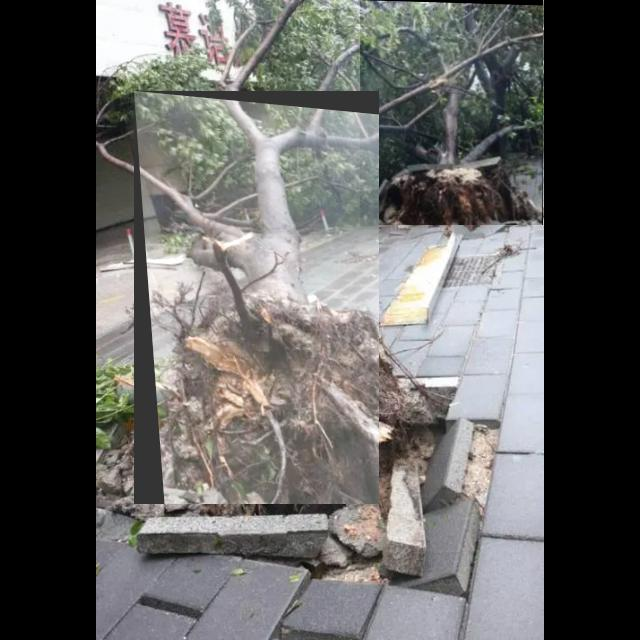Fallen Tree: (134, 91, 380, 505), (360, 0, 544, 226)
